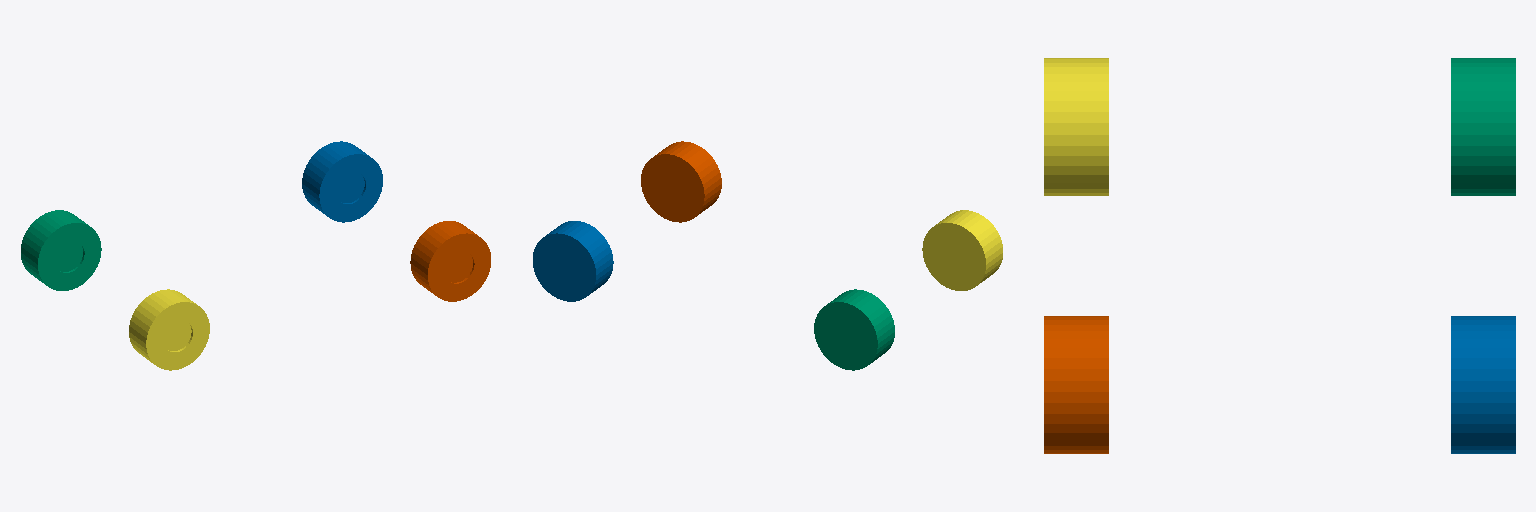
robot.urdf — skid:
<?xml version="1.0"?>
<robot name="skid"

       xmlns:xi="http://www.w3.org/2001/XInclude"
       xmlns:gazebo="http://playerstage.sourceforge.net/gazebo/xmlschema/#gz"
       xmlns:model="http://playerstage.sourceforge.net/gazebo/xmlschema/#model"
       xmlns:sensor="http://playerstage.sourceforge.net/gazebo/xmlschema/#sensor"
       xmlns:body="http://playerstage.sourceforge.net/gazebo/xmlschema/#body"
       xmlns:geom="http://playerstage.sourceforge.net/gazebo/xmlschema/#geom"
       xmlns:joint="http://playerstage.sourceforge.net/gazebo/xmlschema/#joint"
       xmlns:interface="http://playerstage.sourceforge.net/gazebo/xmlschema/#interface"
       xmlns:rendering="http://playerstage.sourceforge.net/gazebo/xmlschema/#rendering"
       xmlns:renderable="http://playerstage.sourceforge.net/gazebo/xmlschema/#renderable"
       xmlns:controller="http://playerstage.sourceforge.net/gazebo/xmlschema/#controller"
       xmlns:physics="http://playerstage.sourceforge.net/gazebo/xmlschema/#physics">

  <!-- BASE FOOTPRINT -->

  <!-- base_footprint is a fictitious link(frame) that is on the ground right below base_link origin,
             navigation stack depends on this frame -->
  <link name="base_footprint">
      <inertial>
          <mass value="0.0001" />
          <origin xyz="0 0 0" />
      <inertia ixx="0.0001" ixy="0.0" ixz="0.0"
                         iyy="0.0001" iyz="0.0" 
                         izz="0.0001" />
      </inertial>

      <visual>
          <origin xyz="0 0 0" rpy="0 0 0" />
          <geometry>
             <box size="0.001 0.001 0.001" />
          </geometry>
      </visual>

      <collision>
          <origin xyz="0 0 0.0" rpy="0 0 0" /> <!-- 0.0 0.0 0.1285 //meu 0 0 0.151 -->
          <geometry>
            <box size="0.001 0.001 0.001" />
         </geometry>
     </collision>
  </link>

  <gazebo reference="base_footprint">
    <material>Gazebo/Green</material>
    <turnGravityOff>false</turnGravityOff>
  </gazebo>

  <joint name="base_footprint_joint" type="fixed">
     <!--NB: While you would think this would make it go up, it is oddly reversed.
      This moves the joint to 0,0,0 where we want it for rviz, etc. -->
     <origin xyz="0 0 0.130" rpy="0 0 0" />    <!-- 0.0 0.0 0.161 -->     
     <parent link="base_footprint"/>
     <child link="base_link" />
  </joint>


  <!-- BASE_LINK (RED) -->
  <link name="base_link">
    <inertial>
      <mass value="10.5" />
      <origin xyz="0 0 0" />
      <inertia  ixx="1.391" ixy="0.004"  ixz="0.0"  iyy="6.853"  iyz="0.0"  izz="6.125" />
    </inertial>
    <visual>
       <origin xyz="0 0 0" rpy="0 0 0" />
       <geometry>
	 <mesh filename="package://summit_description/meshes/summit_chassis.stlb"/>
       </geometry>
    </visual>
    <collision>
       <origin xyz="0 0 0.06" rpy="0 0 0 " />
       <geometry>
         <!--mesh filename="package://summit_description/meshes/summit_chassis.stlb"/-->
	 <box size = "0.56 0.4 0.2"/>
       </geometry>
    </collision>     
  </link>
  <gazebo reference="base_link">
    <material>Gazebo/Red</material>
    <turnGravityOff>false</turnGravityOff>
  </gazebo>

  <link name="back_left_wheel">
    <inertial>
      <mass value="1.0" />
      <!-- center of mass (com) is defined w.r.t. link local coord system -->
      <origin xyz="0 0 0" />
      <inertia  ixx="1.0" ixy="0.0"  ixz="0.0"  iyy="100.0"  iyz="0.0"  izz="1.0" />
    </inertial>
    <visual>
       <!-- visual origin is defined w.r.t. link local coordinate system -->
       <origin xyz="0 0 0" rpy="0 0 0" />
       <geometry>
         <!-- cylinder radius="0.125" length="0.2" /-->
         <mesh filename="package://summit_description/meshes/wheel.stl"/>
       </geometry>
    </visual>
    <collision>
       <!-- collision origin is defined w.r.t. link local coord. system -->
       <origin xyz="0 0 0" rpy="0 0 0 " />
       <geometry>
         <!-- cylinder radius="0.125" length="0.2" /-->
         <mesh filename="package://summit_description/meshes/wheel.stl"/>
       </geometry>
    </collision>
  </link>
  <gazebo reference="back_left_wheel">
    <mu1 value="10.0" /> 
    <mu2 value="1.0" />
    <fdir1 value="1 0 0"/>
    <material>Gazebo/Black</material>
    <turnGravityOff>false</turnGravityOff>
  </gazebo>

  <joint name="joint_back_left_wheel" type="continuous">
    <parent link="base_link"/>
    <child link="back_left_wheel"/>
    <origin xyz="-0.375 0.25 0" rpy="0 0 0" />
    <axis xyz="0 0 1" rpy="0 0 0" />
    <limit effort="100" velocity="100"/>
    <joint_properties damping="0.0" friction="0.0"/>
  </joint>


  <transmission name="joint_blw_trans" type="pr2_mechanism_model/SimpleTransmission">
     <actuator name="joint_blw_motor" />
     <joint name="joint_back_left_wheel" />
     <mechanicalReduction>1</mechanicalReduction>
     <motorTorqueConstant>1</motorTorqueConstant>
  </transmission>


  <link name="back_right_wheel">
    <inertial>
      <mass value="1.0" />
      <origin xyz="0 0 0" />
      <inertia  ixx="1.0" ixy="0.0"  ixz="0.0"  iyy="100.0"  iyz="0.0"  izz="1.0" />
    </inertial>
    <visual>
       <origin xyz="0 0 0" rpy="0 0 0" />
       <geometry>
         <!-- cylinder radius="0.125" length="0.2" /-->
         <mesh filename="package://summit_description/meshes/wheel.stl"/>
       </geometry>
    </visual>
    <collision>
       <origin xyz="0 0 0" rpy="0 0 0 " />
       <geometry>
         <!-- cylinder radius="0.125" length="0.2" /-->
         <mesh filename="package://summit_description/meshes/wheel.stl"/>
       </geometry>
    </collision>
  </link>
  <gazebo reference="back_right_wheel">
    <mu1 value="10.0" /> 
    <mu2 value="1.0" />
    <fdir1 value="1 0 0"/>
    <material>Gazebo/Black</material>
    <turnGravityOff>false</turnGravityOff>
  </gazebo>

  <joint name="joint_back_right_wheel" type="continuous">
    <parent link="base_link"/>
    <child link="back_right_wheel"/>
    <origin xyz="-0.375 -0.25 0" rpy="0 0 0" />
    <axis xyz="0 0 1" />
  </joint>

  <transmission name="joint_brw_trans" type="pr2_mechanism_model/SimpleTransmission">
     <actuator name="joint_brw_motor" />
     <joint name="joint_back_right_wheel" />
     <mechanicalReduction>1</mechanicalReduction>
     <motorTorqueConstant>1</motorTorqueConstant>
  </transmission>

  
  <link name="front_left_wheel">
    <inertial>
      <mass value="1.0" />
      <origin xyz="0 0 0" />
      <inertia  ixx="1.0" ixy="0.0"  ixz="0.0"  iyy="100.0"  iyz="0.0"  izz="1.0" />
    </inertial>
    <visual>
       <origin xyz="0 0 0" rpy="0 0 0" />
       <geometry>
         <!-- cylinder radius="0.125" length="0.2" /-->
         <mesh filename="package://summit_description/meshes/wheel.stl"/>
       </geometry>
    </visual>
    <collision>
       <origin xyz="0 0 0" rpy="0 0 0 " />
       <geometry>
         <!-- cylinder radius="0.125" length="0.2" /-->
         <mesh filename="package://summit_description/meshes/wheel.stl"/>
       </geometry>
    </collision>
  </link>
  <gazebo reference="front_left_wheel">
    <mu1 value="10.0" /> <!-- Estava en tots els mu1 a 2.0 xo crec que patina massa -->
    <mu2 value="1.0" />
    <fdir1 value="1 0 0"/>
    <material>Gazebo/Black</material>
    <turnGravityOff>false</turnGravityOff>
  </gazebo>

  <joint name="joint_front_left_wheel" type="continuous">
    <parent link="base_link"/>
    <child link="front_left_wheel"/>
    <origin xyz="0.375 0.25 0" rpy="0 0 0" />
    <axis xyz="0 0 1" />
  </joint>

  <transmission name="joint_flw_trans" type="pr2_mechanism_model/SimpleTransmission">
     <actuator name="joint_flw_motor" />
     <joint name="joint_front_left_wheel" />
     <mechanicalReduction>1</mechanicalReduction>
     <motorTorqueConstant>1</motorTorqueConstant>
  </transmission>


  <link name="front_right_wheel">
    <inertial>
      <mass value="1.0" />
      <origin xyz="0 0 0" />
      <inertia  ixx="1.0" ixy="0.0"  ixz="0.0"  iyy="100.0"  iyz="0.0"  izz="1.0" />
    </inertial>
    <visual>
       <origin xyz="0 0 0" rpy="0 0 0" />
       <geometry>
         <!-- cylinder radius="0.125" length="0.2" /-->
         <mesh filename="package://summit_description/meshes/wheel.stl"/>
       </geometry>
    </visual>
    <collision>
       <origin xyz="0 0 0" rpy="0 0 0 " />
       <geometry>
         <!-- cylinder radius="0.125" length="0.2" /-->
         <mesh filename="package://summit_description/meshes/wheel.stl"/>
       </geometry>
    </collision>
  </link>
  <gazebo reference="front_right_wheel">
    <mu1 value="10.0" /> 
    <mu2 value="1.0" />
    <fdir1 value="1 0 0"/>
    <material>Gazebo/Black</material>
    <turnGravityOff>false</turnGravityOff>
  </gazebo>

  <joint name="joint_front_right_wheel" type="continuous">
    <parent link="base_link"/>
    <child link="front_right_wheel"/>
    <origin xyz="0.375 -0.25 0" rpy="0 0 0" />
    <axis xyz="0 0 1" />
  </joint>

  <transmission name="joint_frw_trans" type="pr2_mechanism_model/SimpleTransmission">
     <actuator name="joint_frw_motor" />
     <joint name="joint_front_right_wheel" />
     <mechanicalReduction>1</mechanicalReduction>
     <motorTorqueConstant>1</motorTorqueConstant>
  </transmission>


</robot>

--- Render facts (derived) ---
3 views of the same robot in one strip: view 1: azimuth 30°, elevation 25°; view 2: azimuth 150°, elevation 25°; view 3: azimuth 270°, elevation 25° (orthographic).
Model skid with 6 links and 5 joints (4 continuous, 1 fixed), rooted at base_footprint, posed all joints at 0.
Links seen in each view (by area): view 1: back_right_wheel, front_left_wheel, back_left_wheel, front_right_wheel; view 2: back_left_wheel, front_right_wheel, back_right_wheel, front_left_wheel; view 3: back_left_wheel, back_right_wheel, front_left_wheel, front_right_wheel.
Link boxes in pixels (box(x1,y1,x2,y2)): back_right_wheel: box(129, 289, 209, 370); front_left_wheel: box(302, 141, 382, 222); back_left_wheel: box(21, 210, 101, 290); front_right_wheel: box(410, 221, 490, 301); back_left_wheel: box(814, 289, 894, 370); front_right_wheel: box(641, 141, 721, 222); back_right_wheel: box(922, 210, 1002, 290); front_left_wheel: box(533, 221, 613, 301); back_left_wheel: box(1451, 58, 1515, 195); back_right_wheel: box(1044, 58, 1108, 195); front_left_wheel: box(1451, 316, 1515, 453); front_right_wheel: box(1044, 316, 1108, 453).
Size in the robot's own frame: 0.92 by 0.58 by 0.2152 metres.
Meshes: 2 distinct files referenced, 4 mesh visuals loaded (1 binary STL); not drawn: 1 (reference not matched to a file when rendering).
